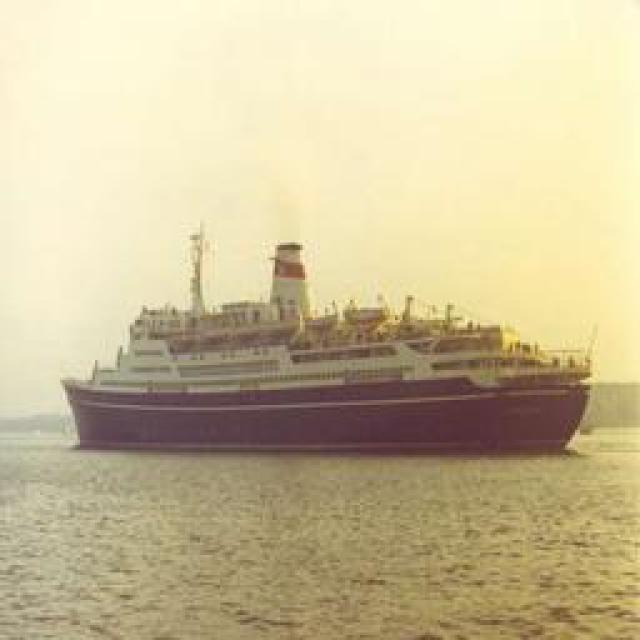Ship: (57, 255, 597, 463)
